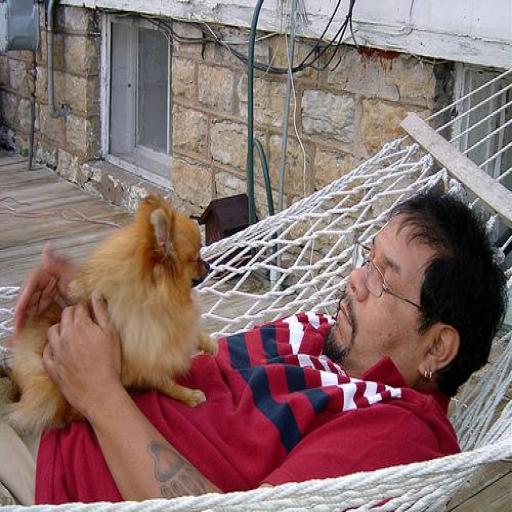dog_face: (128, 194, 214, 288)
